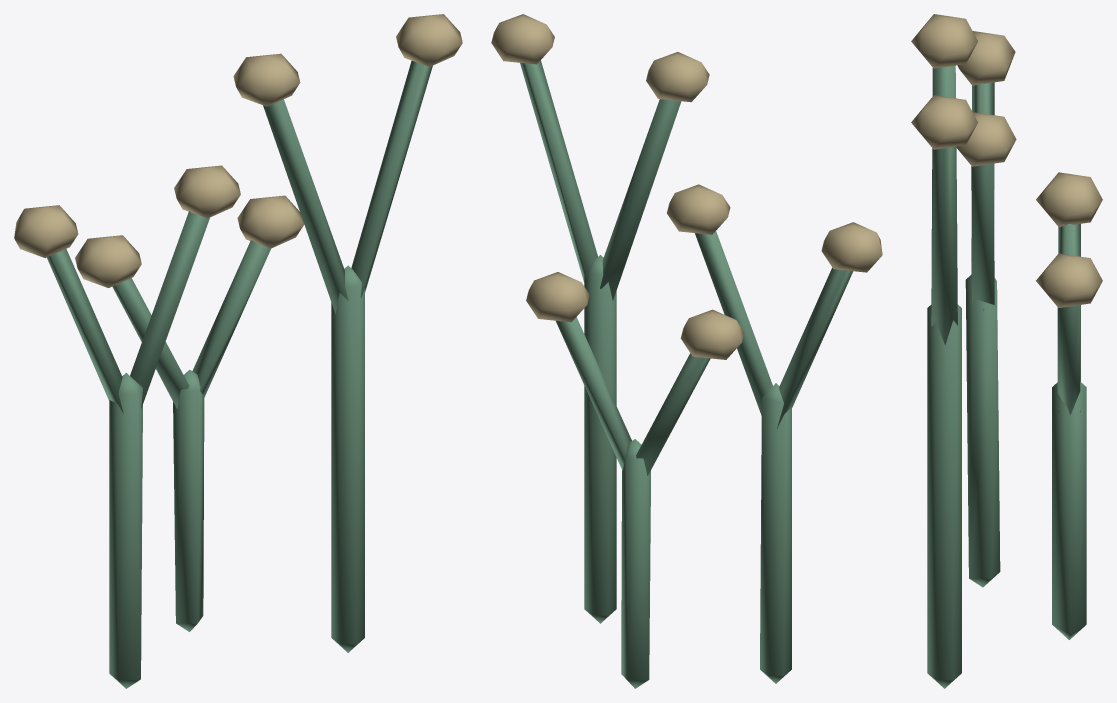
File: org_cooksonia.glb
3 renders of one model, left to right at view 1: azimuth 30°, elevation 25°; view 2: azimuth 150°, elevation 25°; view 3: azimuth 270°, elevation 25°, orthographic. The views are drawn at different scales.
Visible parts, largest first — view 1: Foliage, Trunk; view 2: Foliage, Trunk; view 3: Trunk, Foliage.
Boxes of the visible parts, x1,y1,x2,y2 form: Foliage: (14,14,462,413); Trunk: (109,265,364,688); Foliage: (491,14,882,476); Trunk: (584,255,791,688); Trunk: (927,274,1086,688); Foliage: (911,14,1102,414).
Bounding box in the file's own units: 0.2177 × 0.3 × 0.0828.
